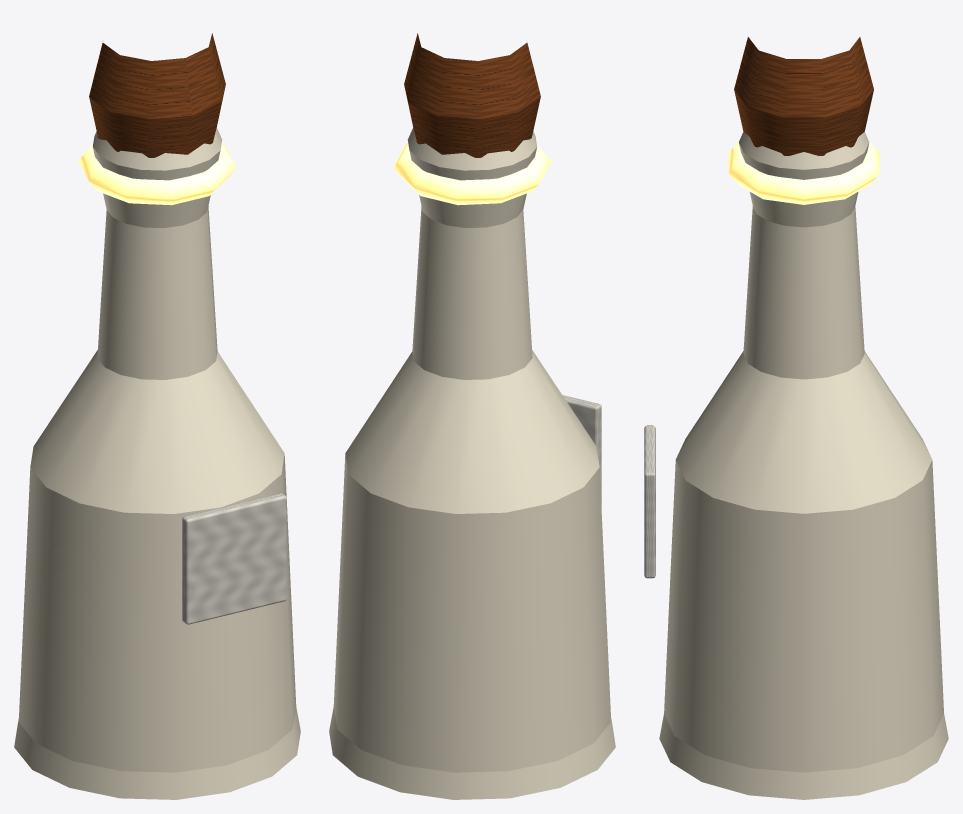
File: witch-cottage-and-apothecary-potion-bottle-conical-cre-374bd5f9__32477.glb
3 renders of one model, left to right at view 1: azimuth 30°, elevation 25°; view 2: azimuth 150°, elevation 25°; view 3: azimuth 270°, elevation 25°, orthographic.
Parts seen in each view (by area): view 1: potion-bottle-conical-cream; view 2: potion-bottle-conical-cream; view 3: potion-bottle-conical-cream.
Part boxes in pixels (x1,y1,x2,y2): potion-bottle-conical-cream: (14, 33, 300, 799); potion-bottle-conical-cream: (329, 33, 615, 799); potion-bottle-conical-cream: (644, 37, 948, 799).
Size of the model in its own units: 0.124 by 0.34 by 0.1305.
4 materials, 2 textured.
